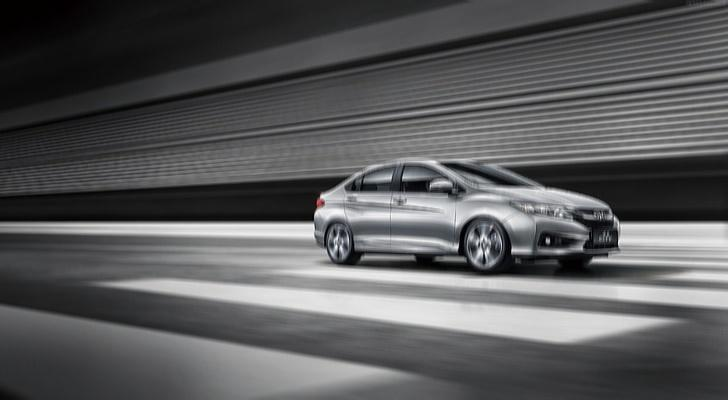Car hood: (476, 182, 612, 208)
Driver-s door - -F-R-: (390, 159, 454, 251)
Fender - -F-R-: (456, 182, 521, 251)
Fender - -R-R-: (318, 191, 357, 246)
Front bumper: (505, 214, 624, 260)
Headlight - -R-: (506, 199, 576, 223)
Passenger-s door - -R-R-: (344, 161, 395, 251)
Rear bumper: (312, 211, 328, 251)
Rear light - -R-: (313, 193, 329, 209)
Side bumper - -R-: (350, 238, 461, 259)
Side mirror - -R-: (423, 174, 459, 198)
